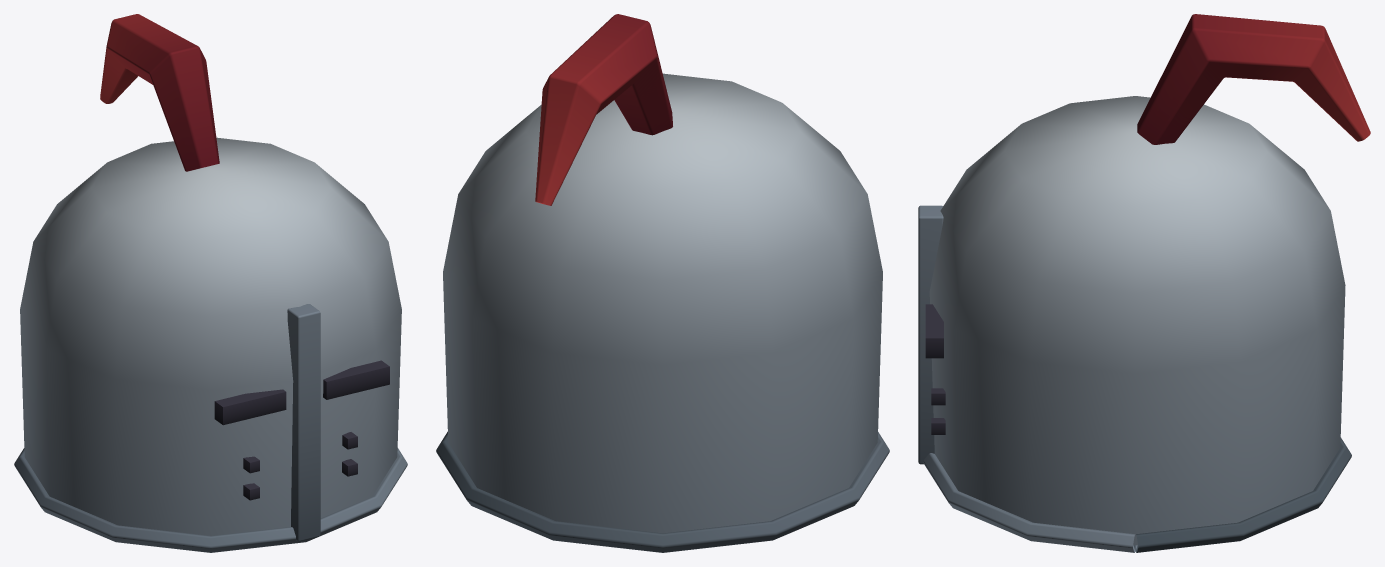
File: knights_helm.glb
The picture shows the model from 3 angles, left to right: view 1: azimuth 30°, elevation 25°; view 2: azimuth 150°, elevation 25°; view 3: azimuth 270°, elevation 25°; orthographic projection. The views are drawn at different scales.
Visible parts, largest first — view 1: knights_helm, knights_helm_trim; view 2: knights_helm; view 3: knights_helm, knights_helm_trim.
Boxes of the visible parts, left/top/right/bottom form: knights_helm: left=14, top=14, right=407, bottom=552; knights_helm_trim: left=214, top=360, right=389, bottom=500; knights_helm: left=436, top=14, right=889, bottom=552; knights_helm: left=918, top=14, right=1370, bottom=552; knights_helm_trim: left=925, top=304, right=945, bottom=434.
Size of the model in its own units: 2.37 by 2.68 by 2.48.
